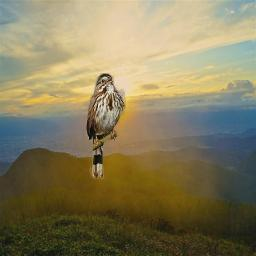Sparrow: (86, 73, 126, 179)
